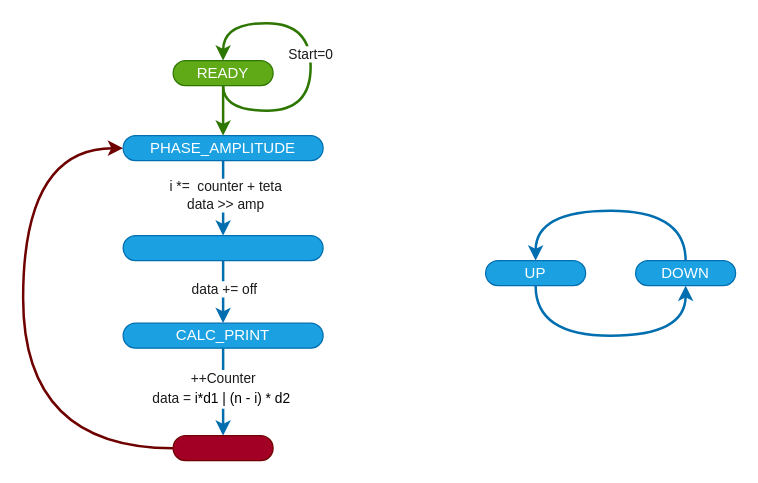
The diagram is 758 pixels wide and 483 high, and some of its shapes have lost their labels. Here are the shapes that lost their labels. From the top down, the centre of each, then its label:
At point (222, 247): "PHASE_ OFFSET".
At point (222, 447): "FINISH".
